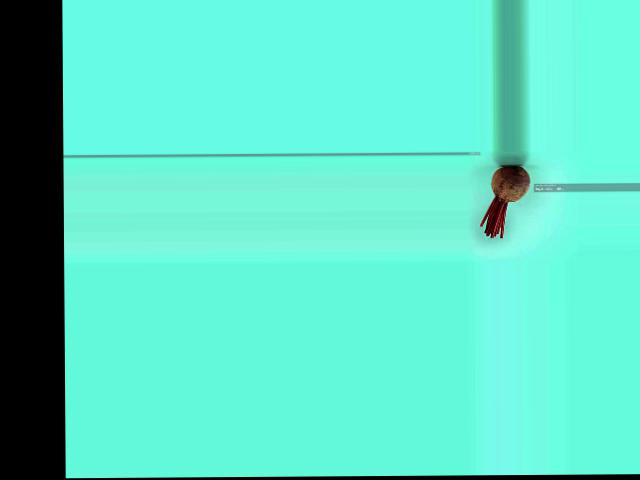beet: (480, 165, 531, 237)
